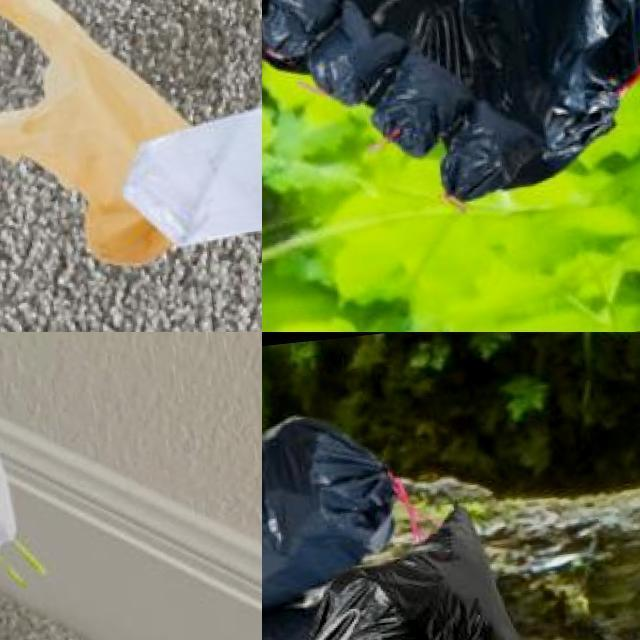waste: (262, 0, 640, 194), (0, 0, 214, 285), (299, 498, 541, 640), (262, 401, 409, 612), (0, 332, 87, 601), (126, 68, 262, 235), (374, 44, 477, 161), (438, 92, 548, 194), (306, 0, 410, 103), (262, 0, 345, 62)
